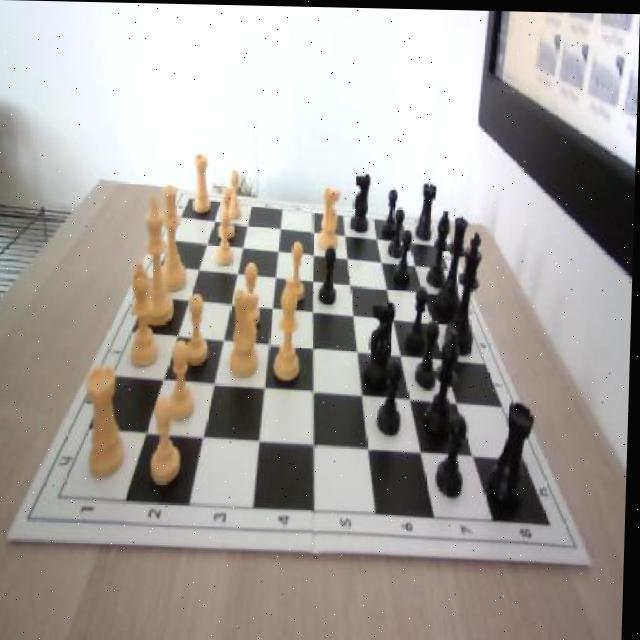bishop: (426, 328, 461, 434), (429, 206, 452, 288)
black-bishop: (446, 228, 485, 354)
black-king: (360, 295, 400, 390), (350, 169, 373, 231)
black-knight: (438, 411, 469, 495), (380, 356, 407, 433), (416, 318, 441, 388), (408, 283, 430, 350), (321, 243, 342, 304), (395, 227, 415, 284), (389, 205, 405, 259), (384, 187, 401, 237)
black-pawn: (436, 212, 470, 319)
black-queen: (488, 398, 537, 506), (418, 181, 438, 239)
black-rook: (126, 261, 165, 367), (274, 288, 304, 382)
white-bishop: (137, 195, 179, 328)
white-king: (230, 281, 264, 379), (316, 181, 343, 248)
white-knight: (151, 397, 186, 487), (167, 337, 200, 422), (184, 291, 213, 368), (238, 260, 264, 327), (287, 242, 308, 301), (215, 210, 236, 267), (226, 169, 245, 219), (219, 187, 238, 237)
white-pawn: (156, 184, 191, 291)
white-queen: (87, 365, 130, 478), (193, 153, 213, 216)
